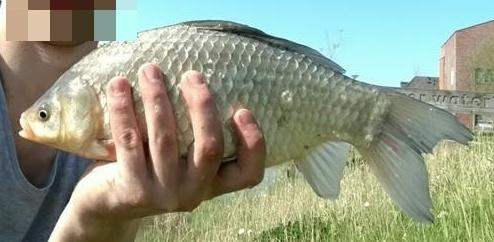Grass Carp: (16, 19, 475, 226)
